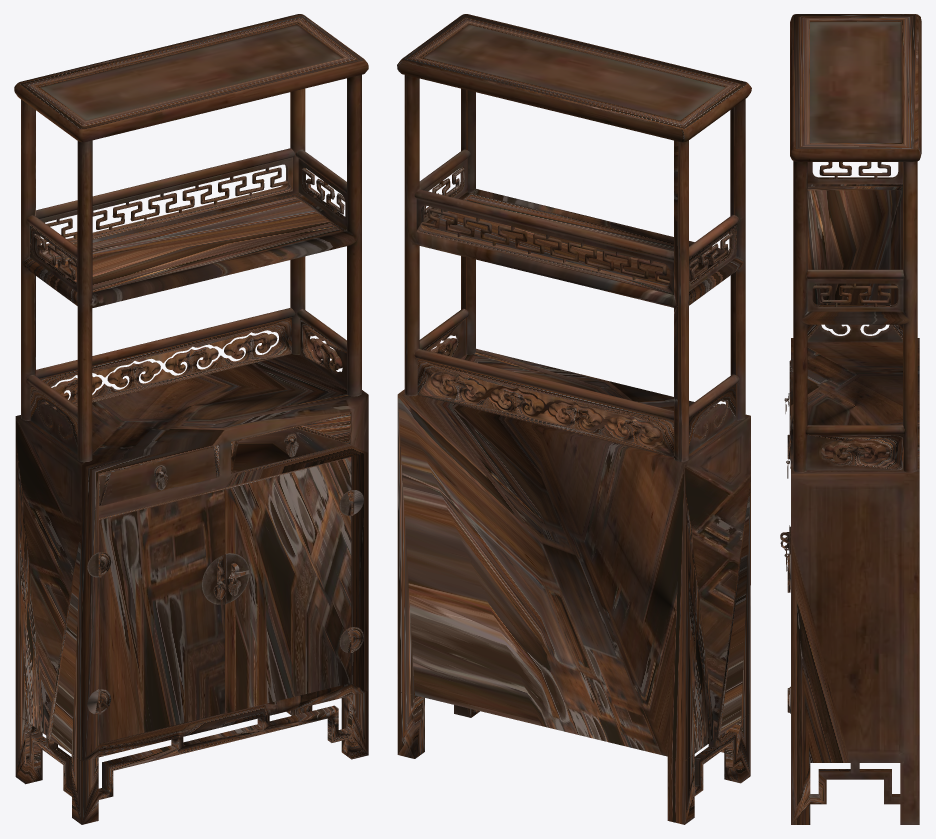
The model's file is chinese_cabinet.glb.
3 views of the same model, side by side, from view 1: azimuth 30°, elevation 25°; view 2: azimuth 150°, elevation 25°; view 3: azimuth 270°, elevation 25° (orthographic). The views are drawn at different scales.
Parts seen in each view (by area): view 1: Cube.013, chinese_cabinet; view 2: Cube.013; view 3: Cube.013, chinese_cabinet.
Part boxes in pixels (x1=…): Cube.013: x1=14, y1=14, x2=368, y2=824; chinese_cabinet: x1=98, y1=413, x2=353, y2=743; Cube.013: x1=397, y1=14, x2=751, y2=824; Cube.013: x1=790, y1=14, x2=921, y2=824; chinese_cabinet: x1=780, y1=360, x2=790, y2=712.
Size of the model in its own units: 1.26 by 2.87 by 0.5452.
Materials: 1 (1 with a texture image).
